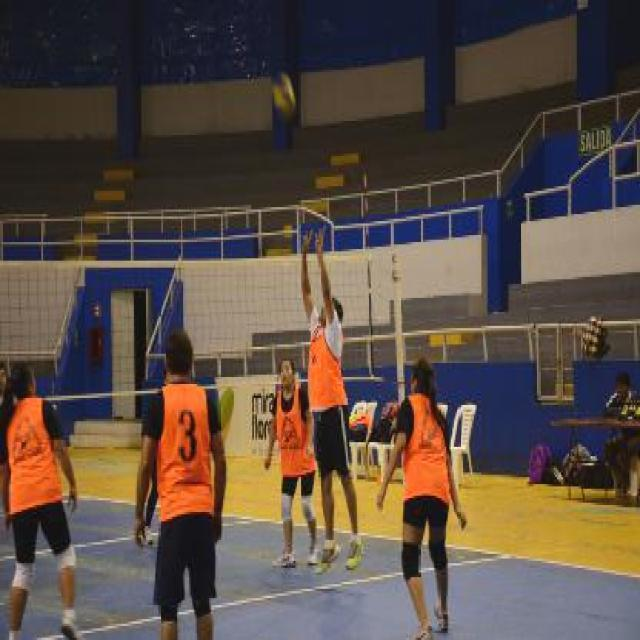volleyball: (274, 76, 296, 110)
